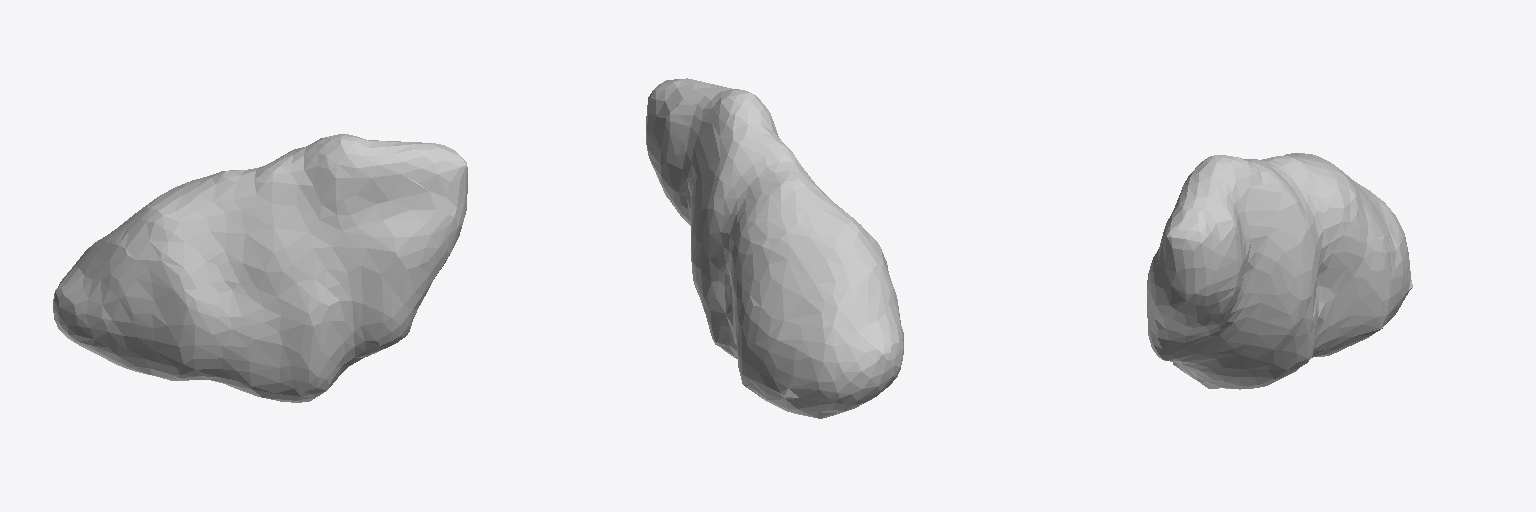
The model's file is L-Globus.obj.
3 views of the same model, side by side, from view 1: azimuth 30°, elevation 25°; view 2: azimuth 150°, elevation 25°; view 3: azimuth 270°, elevation 25° (orthographic).
Parts seen in each view (by area): view 1: L-globus_LEFT-globus; view 2: L-globus_LEFT-globus; view 3: L-globus_LEFT-globus.
Part boxes in pixels (x1,y1,x2,y2): L-globus_LEFT-globus: (53, 134, 467, 402); L-globus_LEFT-globus: (646, 78, 903, 418); L-globus_LEFT-globus: (1147, 153, 1412, 389).
Size of the model in its own units: 25.5 by 19.01 by 18.13.